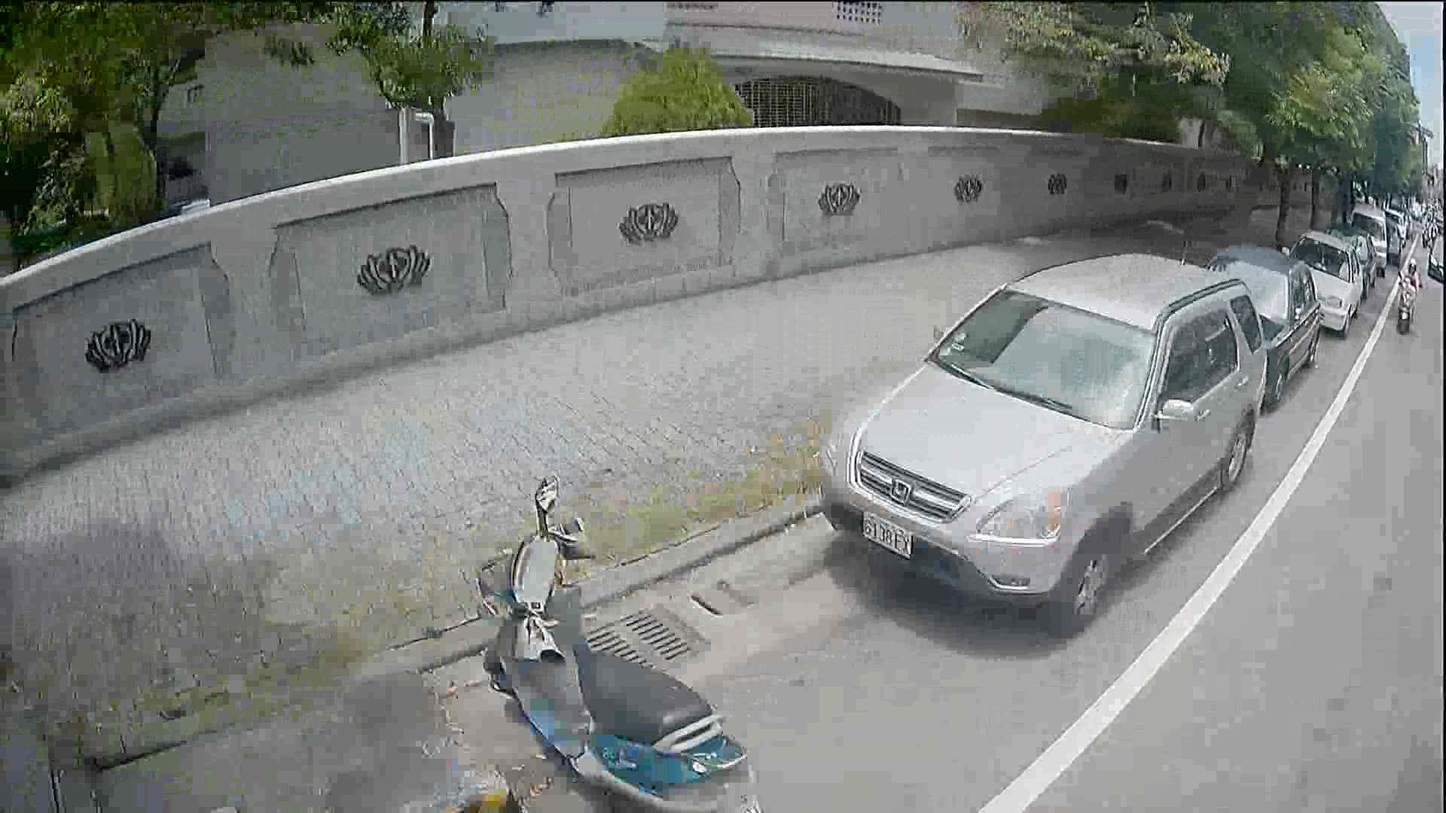person: (1399, 258, 1420, 288)
